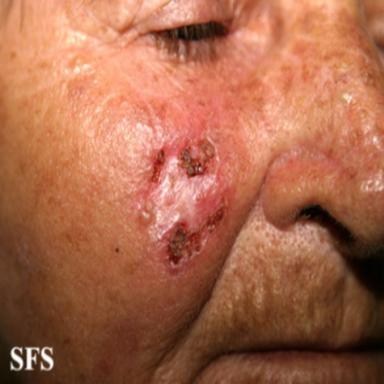basal-cell-carcinoma: (132, 126, 232, 278)
